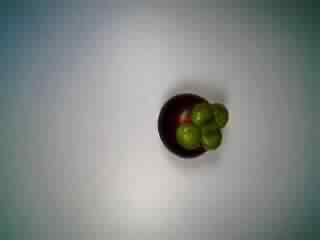mangosteen: (152, 87, 235, 162)
